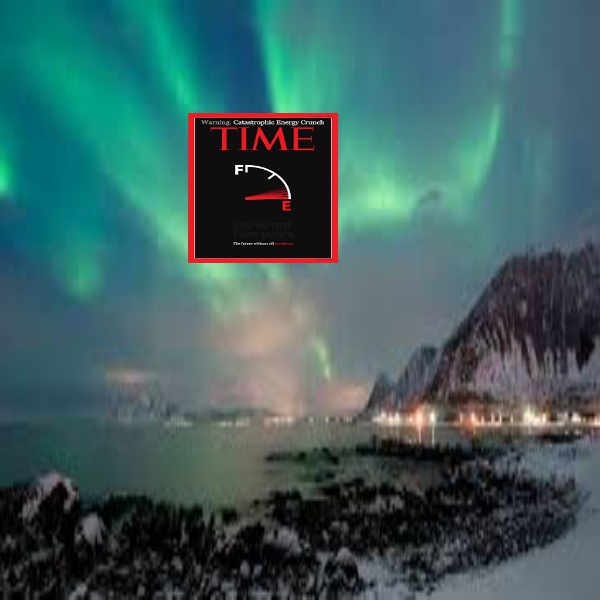time_cover: (177, 105, 344, 274)
